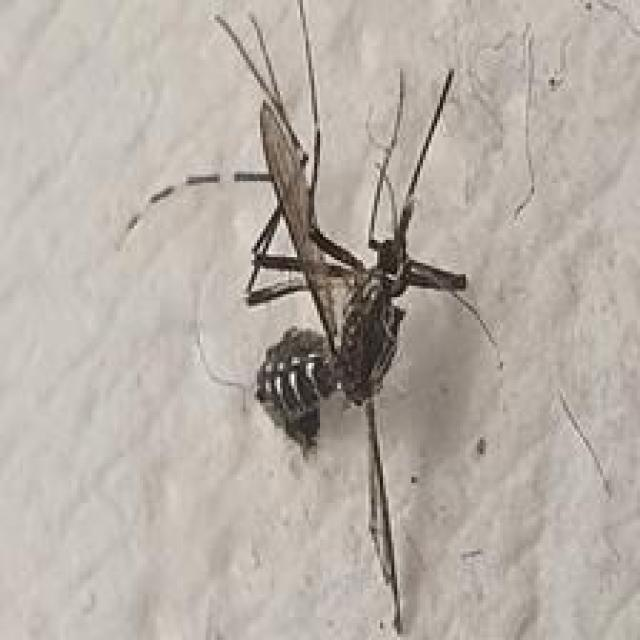Aedes albopictus: (118, 0, 507, 634)
